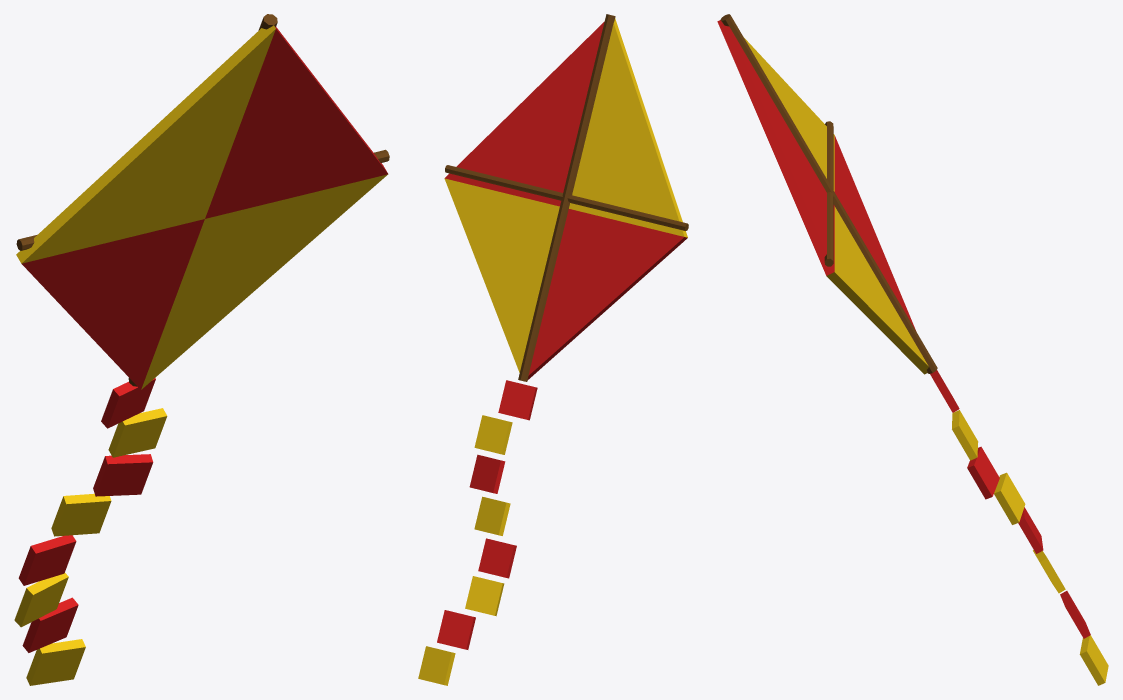
File: Kite.fbx
3 renders of one model, left to right at view 1: azimuth 30°, elevation 25°; view 2: azimuth 150°, elevation 25°; view 3: azimuth 270°, elevation 25°, orthographic. The views are drawn at different scales.
Parts seen in each view (by area): view 1: TL, TR, BR, BL, Tail2, Tail3, Tail7, Tail1, Tail4, Tail5, Tail6, Tail0; view 2: TL, BL, TR, BR, SpineV, SpineH, Tail5, Tail0, Tail6, Tail4, Tail1, Tail7 (+2 smaller); view 3: TR, BR, SpineV, BL, TL, SpineH, Tail3, Tail2, Tail7, Tail1.
Boxes of the visible parts, box(x1,y1,x2,y2) form: TL: box(16, 25, 275, 263); TR: box(205, 27, 387, 218); BR: box(141, 174, 387, 389); BL: box(21, 219, 204, 389); Tail2: box(93, 454, 153, 496); Tail3: box(51, 493, 111, 536); Tail7: box(26, 639, 85, 685); Tail1: box(108, 408, 167, 457); Tail4: box(18, 535, 76, 585); Tail5: box(14, 573, 68, 627); Tail6: box(22, 597, 78, 652); Tail0: box(101, 378, 155, 428); TL: box(569, 18, 687, 237); BL: box(528, 209, 687, 379); TR: box(445, 21, 604, 206); BR: box(444, 178, 559, 372); SpineV: box(518, 14, 615, 381); SpineH: box(445, 165, 688, 230); Tail5: box(465, 576, 504, 616); Tail0: box(498, 380, 537, 420); Tail6: box(437, 610, 475, 649); Tail4: box(478, 538, 516, 578); Tail1: box(474, 415, 512, 454); Tail7: box(418, 646, 455, 685); TR: box(717, 20, 834, 275); BR: box(826, 206, 928, 374); SpineV: box(720, 14, 937, 373); BL: box(834, 135, 916, 331); TL: box(744, 38, 834, 191); SpineH: box(824, 121, 833, 266); Tail3: box(994, 472, 1025, 524); Tail2: box(967, 446, 999, 499); Tail7: box(1079, 635, 1108, 685); Tail1: box(952, 410, 978, 460).
Size of the model in its own units: 140 by 311 by 169.
3 materials, 3 textured.
